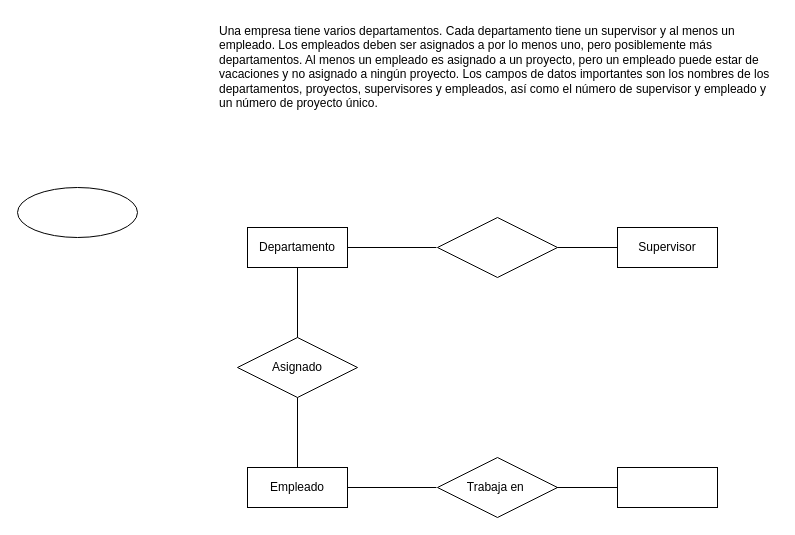
The diagram is 795 pixels wide and 535 high, and some of its shapes have lost their labels. The centre of each missing label's shape, as x and y in pixels:
"Proyecto" belongs at pixel 667 487.
"supervisado por" belongs at pixel 497 247.
